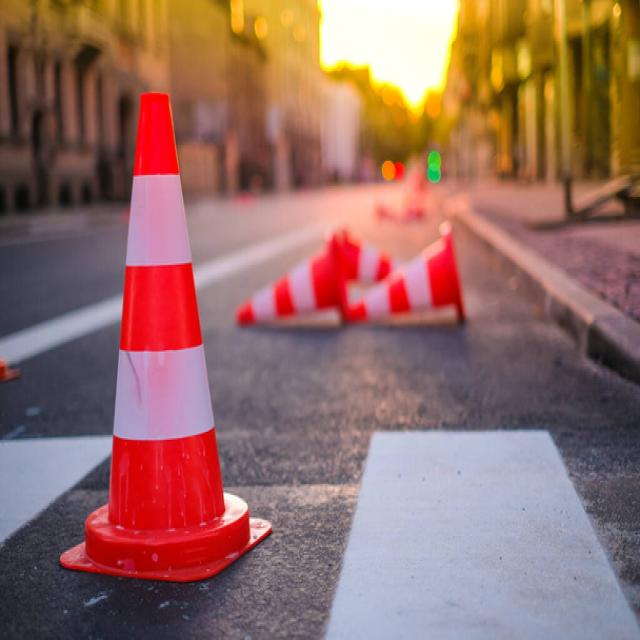Traffic Cone: (48, 63, 284, 601)
